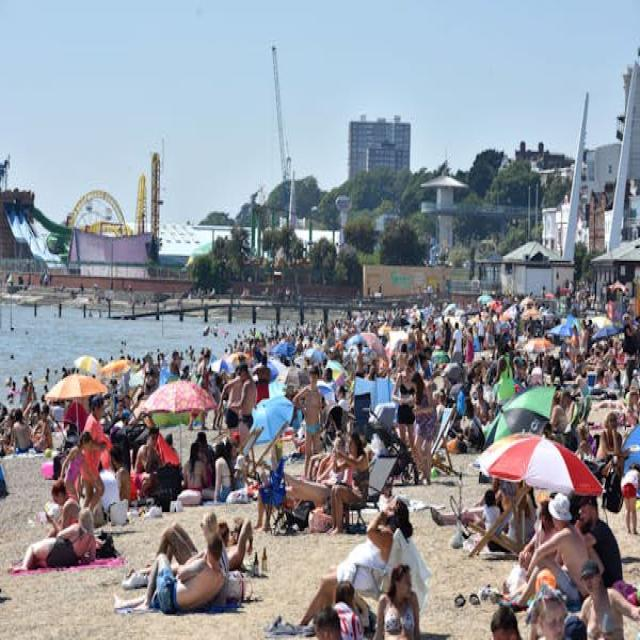Walking: (576, 496, 623, 590), (220, 362, 258, 448), (83, 397, 112, 476)
human: (291, 366, 326, 482), (250, 447, 290, 532), (411, 373, 439, 485), (392, 358, 419, 472), (528, 586, 577, 639), (482, 488, 518, 554), (451, 482, 500, 529), (368, 500, 411, 553), (327, 583, 365, 639), (134, 429, 164, 497), (306, 432, 345, 484), (508, 482, 536, 546), (213, 439, 241, 502), (43, 486, 77, 537), (444, 403, 478, 454), (183, 438, 211, 496), (597, 412, 624, 471), (109, 445, 132, 510), (321, 405, 350, 454), (61, 446, 85, 505), (621, 464, 639, 533), (490, 605, 524, 640), (312, 607, 343, 640), (196, 349, 213, 409), (32, 405, 54, 451), (253, 354, 272, 406), (11, 410, 33, 454), (230, 451, 251, 492), (549, 394, 569, 436), (471, 384, 490, 427), (548, 492, 573, 522), (583, 347, 608, 376), (576, 424, 596, 459), (0, 413, 16, 454), (622, 320, 639, 358), (567, 324, 581, 370), (112, 397, 132, 428), (434, 393, 450, 431), (228, 517, 248, 547), (334, 581, 354, 609), (451, 322, 464, 364), (378, 486, 397, 514), (353, 344, 368, 378), (626, 389, 639, 426), (19, 377, 33, 409), (412, 323, 426, 354), (394, 346, 408, 376), (187, 406, 203, 431), (580, 323, 591, 357), (596, 368, 612, 391), (216, 520, 229, 548), (169, 351, 182, 378), (476, 315, 486, 347), (465, 337, 474, 365), (40, 271, 50, 286), (7, 387, 20, 398), (218, 327, 228, 338), (6, 273, 13, 288), (44, 368, 50, 383), (202, 326, 210, 336)
loitering: (291, 506, 405, 628), (506, 495, 594, 607), (272, 433, 369, 532), (134, 527, 233, 617), (19, 505, 98, 571), (576, 557, 640, 636), (190, 517, 253, 577), (372, 562, 421, 638), (68, 429, 107, 520), (272, 469, 336, 512)
